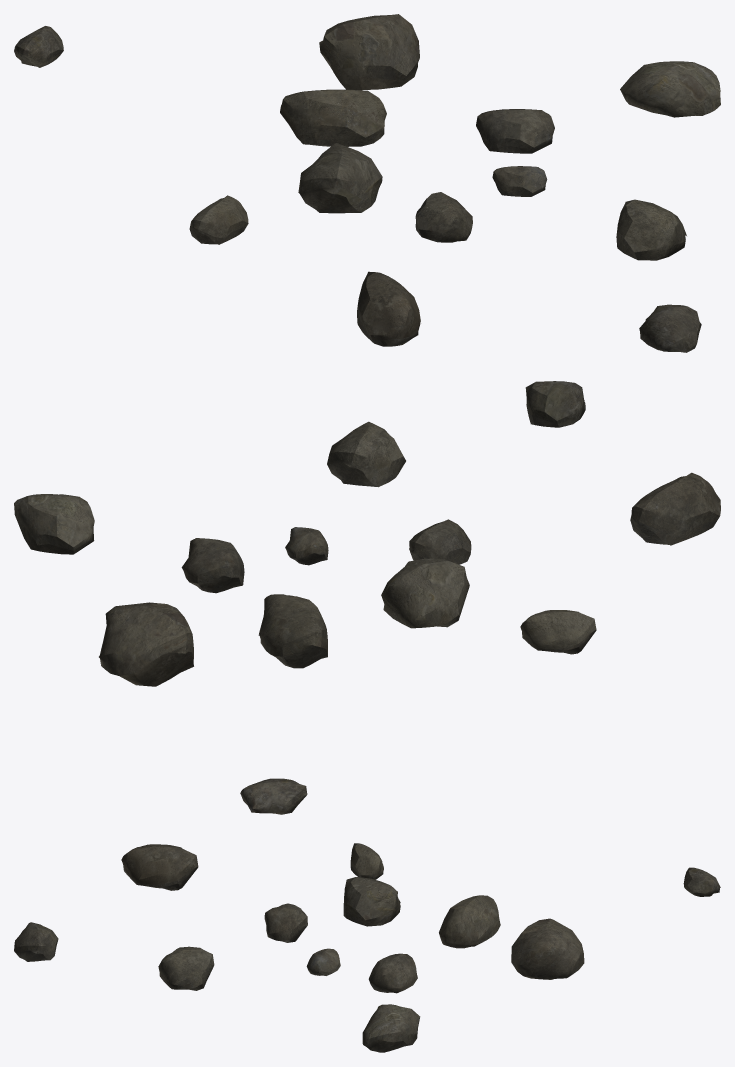
Rendered from SM_Rock_Assembly.fbx.
3 views of the same model, one above another, from view 1: azimuth 30°, elevation 25°; view 2: azimuth 150°, elevation 25°; view 3: azimuth 270°, elevation 25° (orthographic). The views are drawn at different scales.
Visible parts, largest first — view 1: SM_Rock_Assembly; view 2: SM_Rock_Assembly; view 3: SM_Rock_Assembly.
Part boxes in pixels (box(x1,y1,x2,y2)): SM_Rock_Assembly: box(14, 14, 720, 352); SM_Rock_Assembly: box(14, 381, 720, 814); SM_Rock_Assembly: box(14, 843, 720, 1052).
Size of the model in its own units: 23.6 by 36.28 by 2.71.
